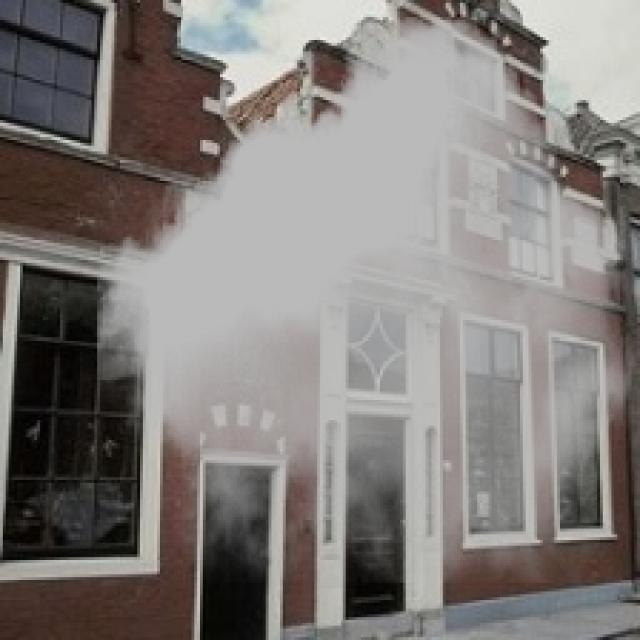smoke: (97, 17, 634, 583)
